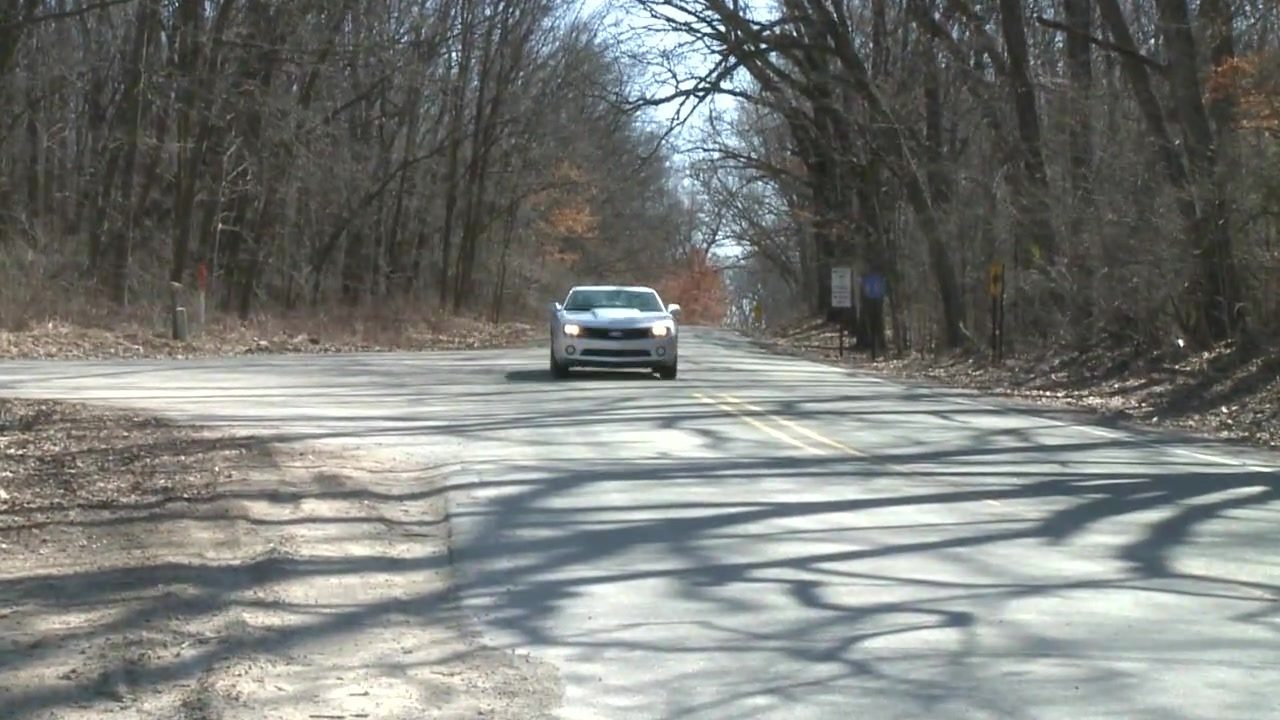car: (549, 284, 688, 385)
